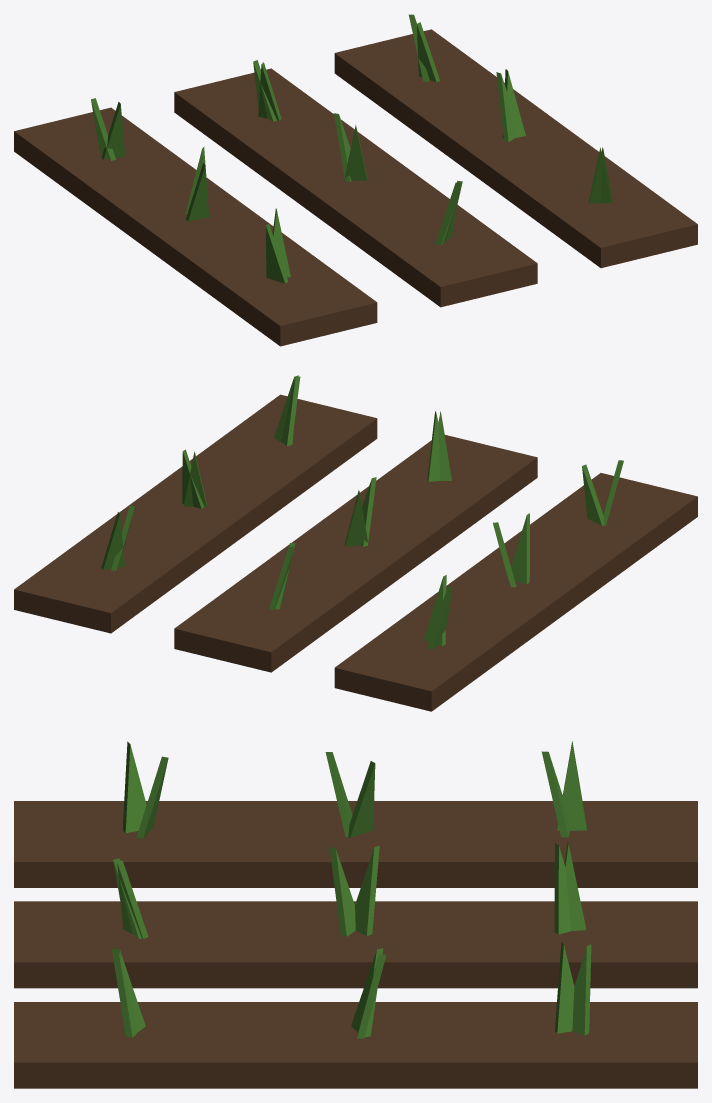
Rendered from crop_roots_2.glb.
3 views of the same model, one above another, from view 1: azimuth 30°, elevation 25°; view 2: azimuth 150°, elevation 25°; view 3: azimuth 270°, elevation 25° (orthographic). The views are drawn at different scales.
Parts seen in each view (by area): view 1: crop_roots_2; view 2: crop_roots_2; view 3: crop_roots_2.
Boxes of the visible parts, x1,y1,x2,y2 form: crop_roots_2: (14, 14, 697, 346); crop_roots_2: (14, 375, 697, 711); crop_roots_2: (14, 741, 697, 1088).
Bounding box in the file's own units: 1.72 × 0.32 × 1.9.
